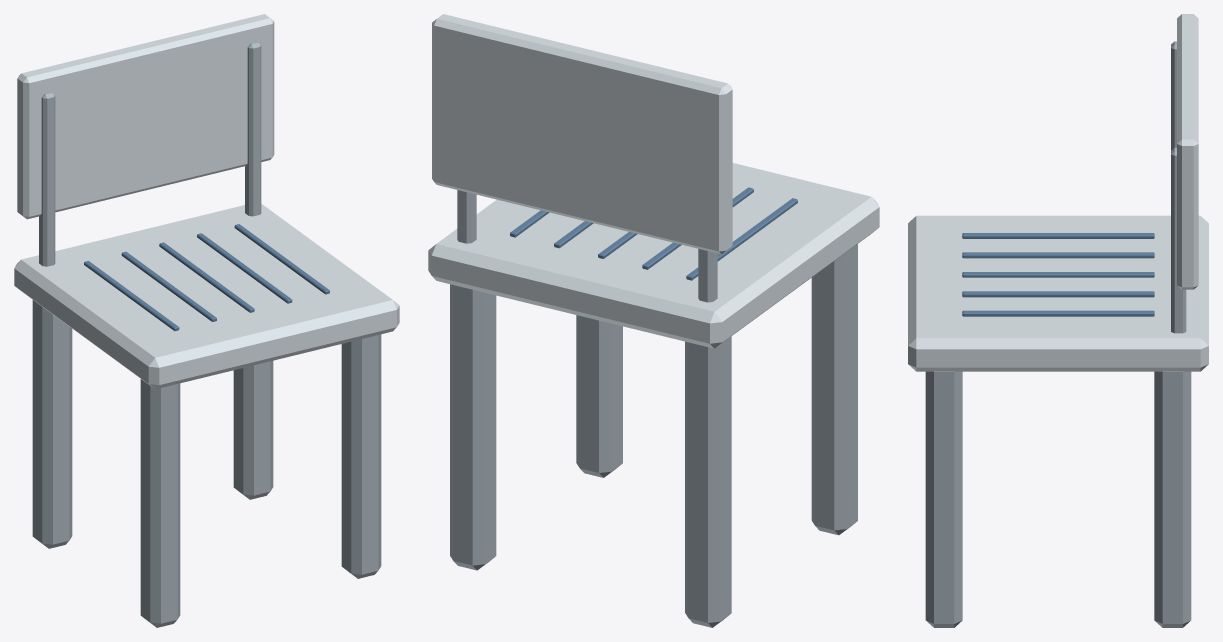
File: ward_09.glb
The picture shows the model from 3 angles, left to right: view 1: azimuth 30°, elevation 25°; view 2: azimuth 150°, elevation 25°; view 3: azimuth 270°, elevation 25°; orthographic projection. The views are drawn at different scales.
Parts seen in each view (by area): view 1: ShowerSeat, ShowerBack, Leg (×4), BackLeg (×2), DrainSlot (×5); view 2: ShowerBack, Leg (×4), ShowerSeat, BackLeg (×2), DrainSlot; view 3: ShowerSeat, Leg (×2), DrainSlot (×5), ShowerBack, BackLeg (×2).
Part boxes in pixels (x1,y1,x2,y2): ShowerSeat: (14, 204, 399, 389); ShowerBack: (17, 14, 274, 219); Leg (×4): (32, 300, 381, 627); BackLeg (×2): (39, 42, 261, 266); DrainSlot (×5): (84, 224, 329, 331); ShowerBack: (432, 14, 732, 254); Leg (×4): (450, 244, 857, 627); ShowerSeat: (428, 163, 879, 348); BackLeg (×2): (457, 190, 717, 302); DrainSlot: (686, 198, 797, 280); ShowerSeat: (908, 215, 1208, 371); Leg (×2): (925, 371, 1191, 627); DrainSlot (×5): (962, 233, 1154, 316); ShowerBack: (1177, 14, 1198, 289); BackLeg (×2): (1171, 41, 1186, 333).
Bounding box in the file's own units: 0.5 × 0.89 × 0.49.
